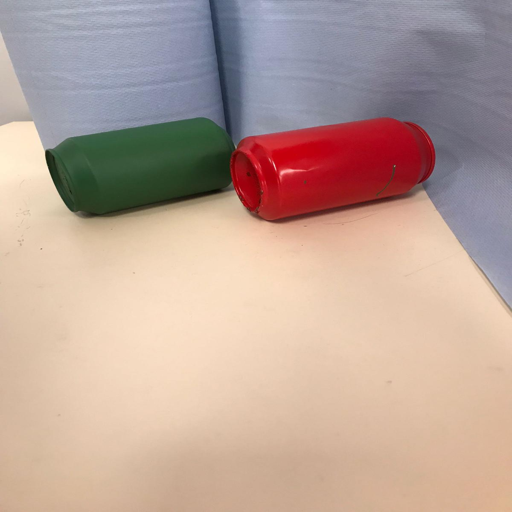Green_Can: (40, 113, 238, 215)
Red_Can: (227, 113, 436, 224)
